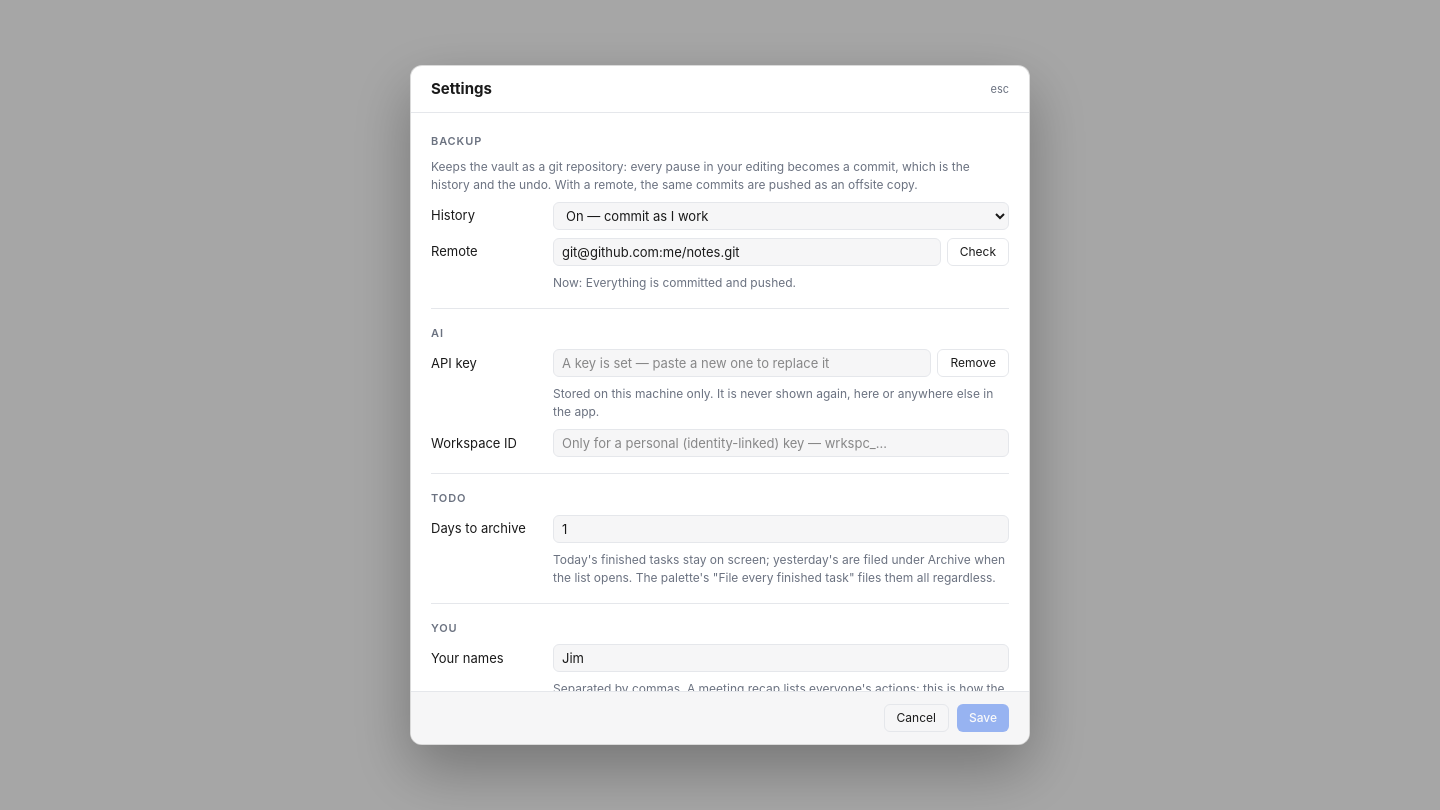
Test: the settings screen › removing the key is explicit, and can be taken back
Click the button "Remove" at (973, 363), box [938,349,1009,377]
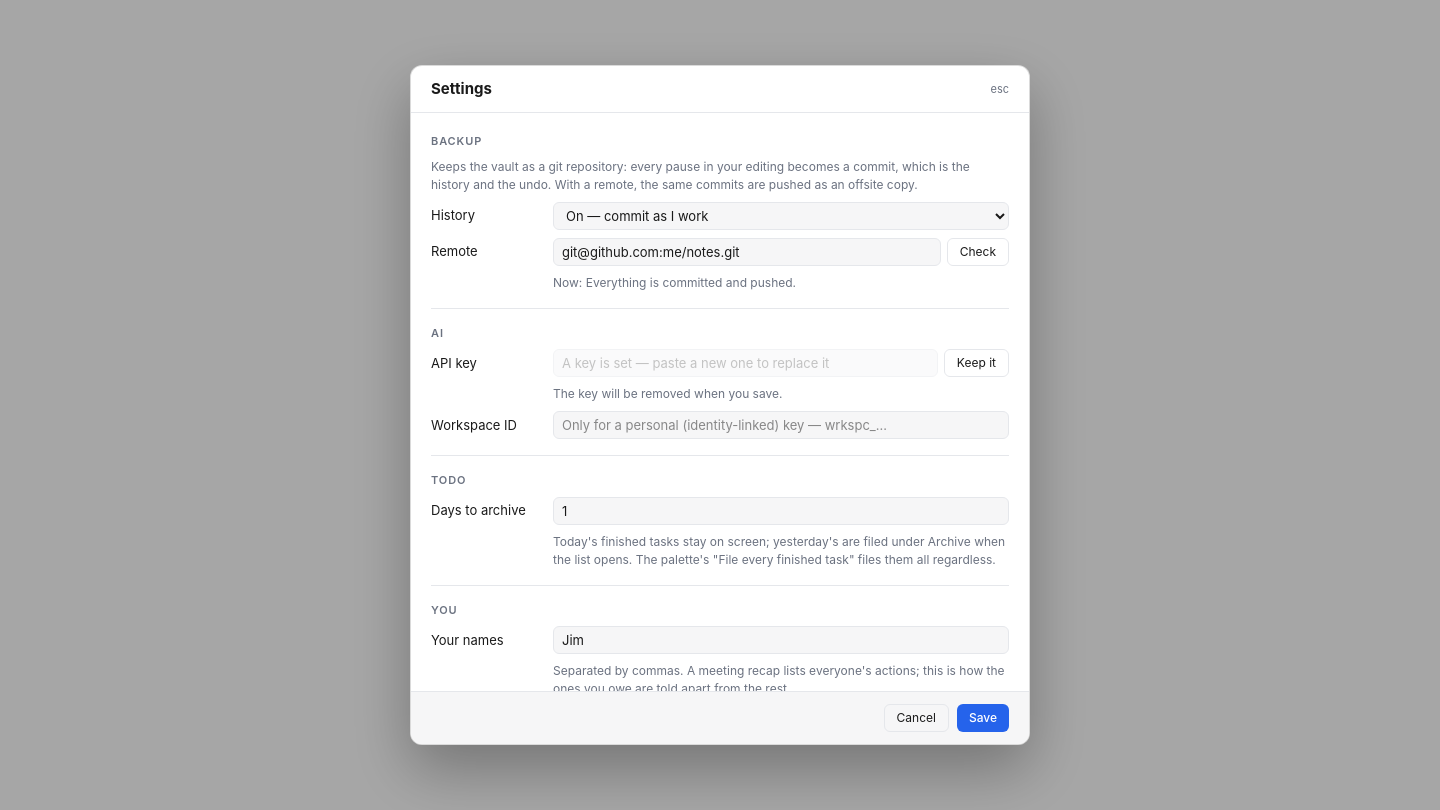
Expected: the text "The key will be removed when you save." is shown, [553,386,782,401]
Click the button "Keep it" at (976, 363), box [944,349,1009,377]
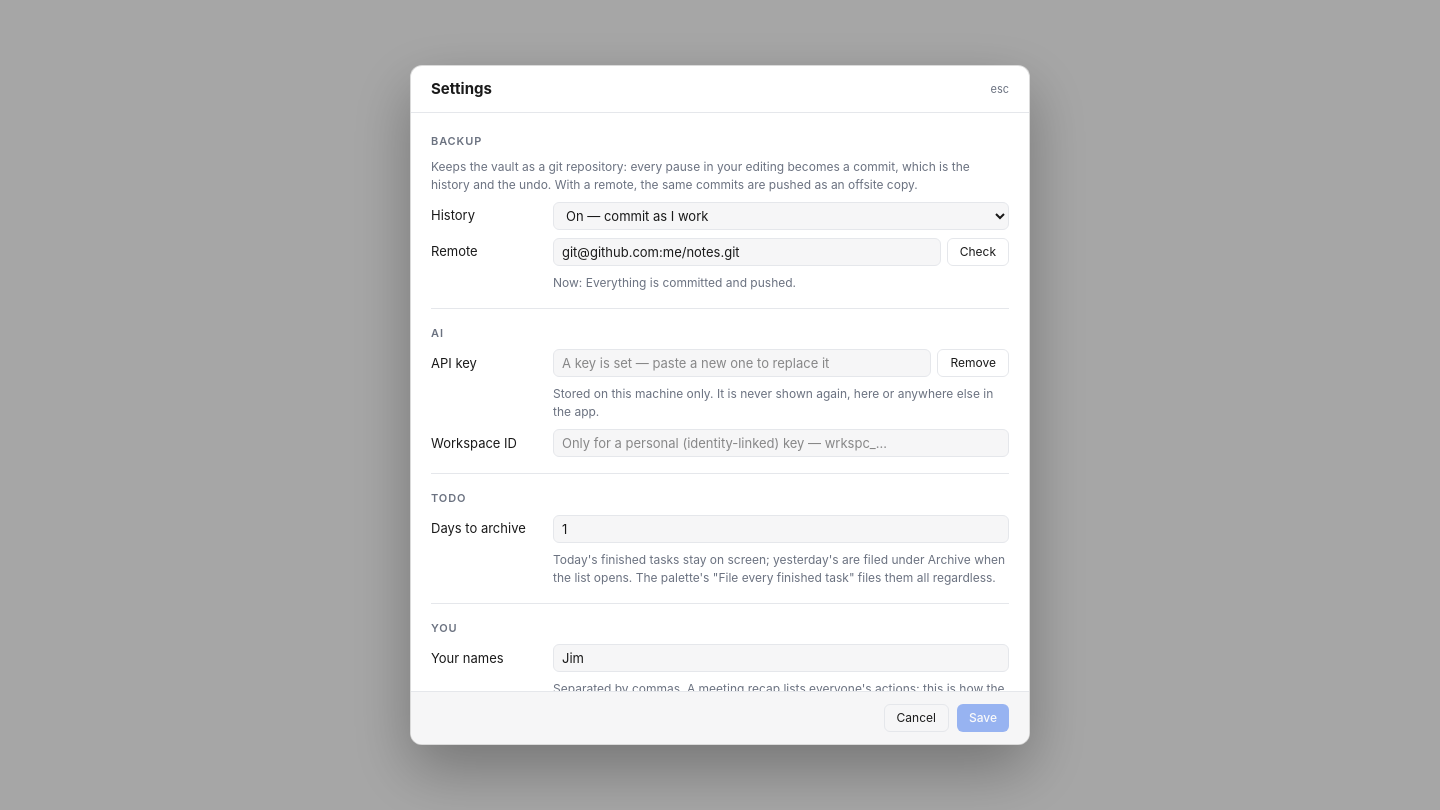
Expected: the button "Save" is disabled, [957,704,1009,732]
